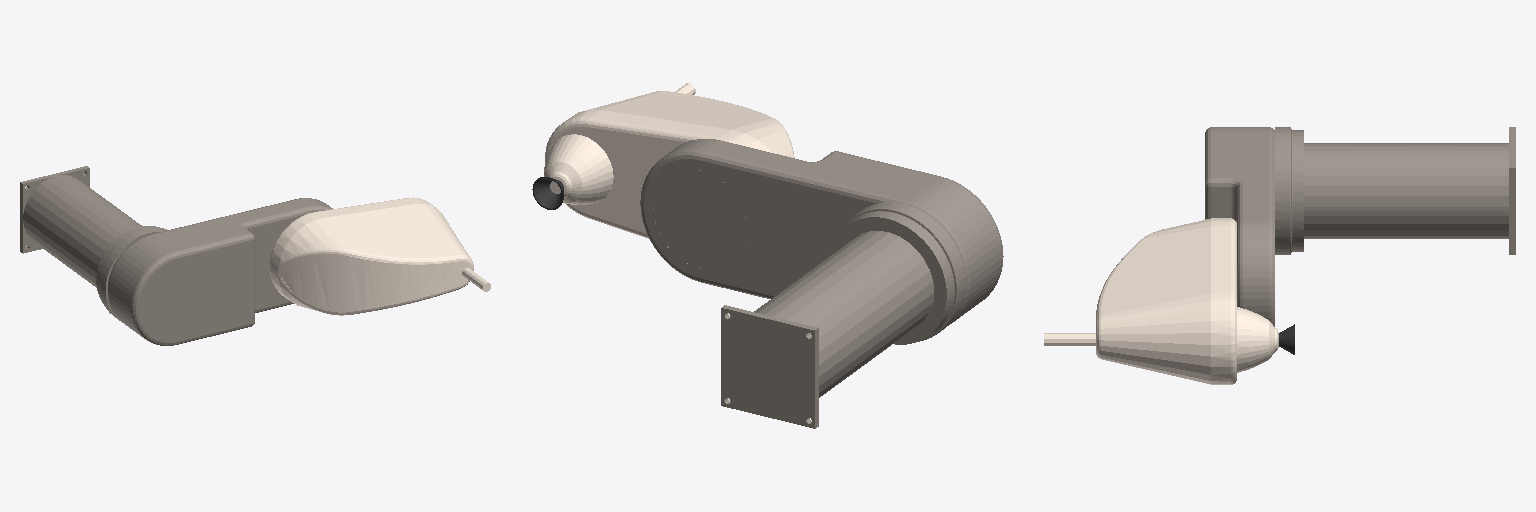
The robot description file, URDF, robot "scara_mit_dh_urdf":
<?xml version="1.0" encoding="utf-8" ?>
<!-- This URDF was automatically created by SolidWorks to URDF Exporter! Originally created by [author] ([email redacted]) 
     Commit Version: 1.6.0-4-g7f85cfe  Build Version: 1.6.7995.38578
     For more information, please see http://wiki.ros.org/sw_urdf_exporter -->
<robot name="scara_mit_dh_urdf">
    <link name="world" />
    <joint name="fixedToWorld" type="fixed">
        <origin xyz="0 0 1" rpy="0 0 0" />
        <parent link="world" />
        <child link="base_link" />
    </joint>
    <link name="base_link">
        <inertial>
            <origin xyz="-3.99506576600143E-18 5.33137969018105E-18 0.180234931906412" rpy="0 0 0" />
            <mass value="50.5064528015554" />
            <inertia ixx="0.507467643046138" ixy="2.23371852613819E-18" ixz="-2.20689887022559E-17" iyy="0.507467643046138" iyz="7.80868643803156E-18" izz="0.164615591191858" />
        </inertial>
        <visual>
            <origin xyz="0 0 0" rpy="0 0 0" />
            <geometry>
                <mesh filename="package://scara_mit_dh_urdf/meshes/base_link.STL" />
            </geometry>
            <material name="">
                <color rgba="0.650980392156863 0.619607843137255 0.588235294117647 1" />
            </material>
        </visual>
        <collision>
            <origin xyz="0 0 0" rpy="0 0 0" />
            <geometry>
                <mesh filename="package://scara_mit_dh_urdf/meshes/base_link.STL" />
            </geometry>
        </collision>
    </link>
    <link name="l1">
        <inertial>
            <origin xyz="0.120817727289337 9.30999931508023E-07 0.0513770238788596" rpy="0 0 0" />
            <mass value="49.5926714803606" />
            <inertia ixx="0.222900609838824" ixy="2.0310593816954E-17" ixz="0.0739678064109204" iyy="0.736885929341891" iyz="6.2640615149761E-18" izz="0.8650916120764" />
        </inertial>
        <visual>
            <origin xyz="0 0 0" rpy="0 0 0" />
            <geometry>
                <mesh filename="package://scara_mit_dh_urdf/meshes/l1.STL" />
            </geometry>
            <material name="">
                <color rgba="0.650980392156863 0.619607843137255 0.588235294117647 1" />
            </material>
        </visual>
        <collision>
            <origin xyz="0 0 0" rpy="0 0 0" />
            <geometry>
                <mesh filename="package://scara_mit_dh_urdf/meshes/l1.STL" />
            </geometry>
        </collision>
    </link>
    <joint name="j1" type="revolute">
        <origin xyz="0 -0.375 0" rpy="1.5708 0 0" />
        <parent link="base_link" />
        <child link="l1" />
        <axis xyz="0 0 1" />
        <limit lower="-2.7" upper="2.7" effort="10000" velocity="1" />
        <dynamics damping="0.2" friction="0.5" />
    </joint>
    <link name="l2">
        <inertial>
            <origin xyz="-0.112811619112 2.03690357156592E-08 -0.08488266623816" rpy="0 0 0" />
            <mass value="32.5846948095504" />
            <inertia ixx="0.16446281982603" ixy="-2.66721834411411E-07" ixz="0.00501596079265974" iyy="0.377276755482314" iyz="1.55740958096566E-07" izz="0.328743826647255" />
        </inertial>
        <visual>
            <origin xyz="0 0 0" rpy="0 0 0" />
            <geometry>
                <mesh filename="package://scara_mit_dh_urdf/meshes/l2.STL" />
            </geometry>
            <material name="">
                <color rgba="1 0.949019607843137 0.898039215686275 1" />
            </material>
        </visual>
        <collision>
            <origin xyz="0 0 0" rpy="0 0 0" />
            <geometry>
                <mesh filename="package://scara_mit_dh_urdf/meshes/l2.STL" />
            </geometry>
        </collision>
    </link>
    <joint name="j2" type="revolute">
        <origin xyz="0.325 0 0.06" rpy="3.1416 0 3.1416" />
        <parent link="l1" />
        <child link="l2" />
        <axis xyz="0 0 1" />
        <limit lower="-2.7" upper="2.7" effort="10000" velocity="1" />
        <dynamics damping="0.2" friction="0.5" />
    </joint>
    <link name="l3">
        <inertial>
            <origin xyz="-1.11022302462516E-16 3.84661319935812E-17 -0.185" rpy="0 0 0" />
            <mass value="0.460306155603976" />
            <inertia ixx="0.00526283371240546" ixy="1.18856148373066E-37" ixz="-6.80626111769164E-20" iyy="0.00526283371240546" iyz="2.77378988674234E-34" izz="2.30153077801988E-05" />
        </inertial>
        <visual>
            <origin xyz="0 0 0" rpy="0 0 0" />
            <geometry>
                <mesh filename="package://scara_mit_dh_urdf/meshes/l3.STL" />
            </geometry>
            <material name="">
                <color rgba="1 0.949019607843137 0.898039215686275 1" />
            </material>
        </visual>
        <collision>
            <origin xyz="0 0 0" rpy="0 0 0" />
            <geometry>
                <mesh filename="package://scara_mit_dh_urdf/meshes/l3.STL" />
            </geometry>
        </collision>
    </link>
    <joint name="j3" type="prismatic">
        <origin xyz="-0.225 0 0.06926" rpy="0 0 0" />
        <parent link="l2" />
        <child link="l3" />
        <axis xyz="0 0 1" />
        <limit lower="0" upper="290" effort="10000" velocity="1" />
        <dynamics damping="0.2" friction="0.5" />
    </joint>
    <link name="l4">
        <inertial>
            <origin xyz="-3.33066907387547E-16 4.16333634234434E-17 0.0115960504326883" rpy="0 0 0" />
            <mass value="0.00734707672394354" />
            <inertia ixx="1.56955034877565E-06" ixy="-1.85288457211878E-22" ixz="-2.27667438887459E-22" iyy="1.56955034877565E-06" iyz="-6.48270541037055E-23" izz="2.46567234921726E-06" />
        </inertial>
        <visual>
            <origin xyz="0 0 0" rpy="0 0 0" />
            <geometry>
                <mesh filename="package://scara_mit_dh_urdf/meshes/l4.STL" />
            </geometry>
            <material name="">
                <color rgba="0.298039215686275 0.298039215686275 0.298039215686275 1" />
            </material>
        </visual>
        <collision>
            <origin xyz="0 0 0" rpy="0 0 0" />
            <geometry>
                <mesh filename="package://scara_mit_dh_urdf/meshes/l4.STL" />
            </geometry>
        </collision>
    </link>
    <joint name="j4" type="revolute">
        <origin xyz="0 0 0" rpy="0 0 -3.0137" />
        <parent link="l3" />
        <child link="l4" />
        <axis xyz="0 0 1" />
        <limit lower="-6.2" upper="6.2" effort="10000" velocity="1" />
        <dynamics damping="0.2" friction="0.5" />
    </joint>
    <transmission name="trans_j1">
        <type>transmission_interface/SimpleTransmission</type>
        <joint name="j1">
            <hardwareInterface>hardware_interface/PositionJointInterface</hardwareInterface>
        </joint>
        <actuator name="j1_motor">
            <hardwareInterface>hardware_interface/PositionJointInterface</hardwareInterface>
            <mechanicalReduction>1</mechanicalReduction>
        </actuator>
    </transmission>
    <transmission name="trans_j2">
        <type>transmission_interface/SimpleTransmission</type>
        <joint name="j2">
            <hardwareInterface>hardware_interface/PositionJointInterface</hardwareInterface>
        </joint>
        <actuator name="j2_motor">
            <hardwareInterface>hardware_interface/PositionJointInterface</hardwareInterface>
            <mechanicalReduction>1</mechanicalReduction>
        </actuator>
    </transmission>
    <transmission name="trans_j3">
        <type>transmission_interface/SimpleTransmission</type>
        <joint name="j3">
            <hardwareInterface>hardware_interface/PositionJointInterface</hardwareInterface>
        </joint>
        <actuator name="j3_motor">
            <hardwareInterface>hardware_interface/PositionJointInterface</hardwareInterface>
            <mechanicalReduction>1</mechanicalReduction>
        </actuator>
    </transmission>
    <transmission name="trans_j4">
        <type>transmission_interface/SimpleTransmission</type>
        <joint name="j4">
            <hardwareInterface>hardware_interface/PositionJointInterface</hardwareInterface>
        </joint>
        <actuator name="j4_motor">
            <hardwareInterface>hardware_interface/PositionJointInterface</hardwareInterface>
            <mechanicalReduction>1</mechanicalReduction>
        </actuator>
    </transmission>
    <!--Gazebo Plugins -->
    <gazebo>
        <plugin name="control" filename="libgazebo_ros_control.so" />
        <plugin name="gazebo_ros_control" filename="libgazebo_ros_control.so">
            <robotNamespace>/</robotNamespace>
        </plugin>
    </gazebo>
    <gazebo>
        <plugin name="joint_state_publisher" filename="libgazebo_ros_joint_state_publisher.so">
            <jointName>j1, j2, j3, j4</jointName>
        </plugin>
    </gazebo>
</robot>

--- Render facts (derived) ---
The picture shows the robot from 3 angles, left to right: view 1: azimuth 30°, elevation 25°; view 2: azimuth 150°, elevation 25°; view 3: azimuth 270°, elevation 25°; orthographic projection.
Model scara_mit_dh_urdf with 6 links and 5 joints (3 revolute, 1 prismatic, 1 fixed), rooted at world, posed all joints at 0.
Links seen in each view (by area): view 1: l1, l2, base_link; view 2: l1, base_link, l2, l4; view 3: base_link, l2, l1, l3.
Boxes of the visible links, bbox=[...] form: l1: bbox=[108, 198, 332, 345]; l2: bbox=[270, 197, 473, 315]; base_link: bbox=[20, 166, 166, 320]; l1: bbox=[640, 139, 1003, 323]; base_link: bbox=[721, 202, 965, 428]; l2: bbox=[544, 91, 794, 238]; l4: bbox=[532, 177, 563, 209]; base_link: bbox=[1275, 127, 1515, 254]; l2: bbox=[1096, 218, 1278, 384]; l1: bbox=[1205, 127, 1274, 326]; l3: bbox=[1044, 333, 1095, 345].
Size in the robot's own frame: 0.712 by 0.7357 by 0.2 metres.
Meshes: 5 distinct files referenced, 5 mesh visuals loaded (5 binary STL).